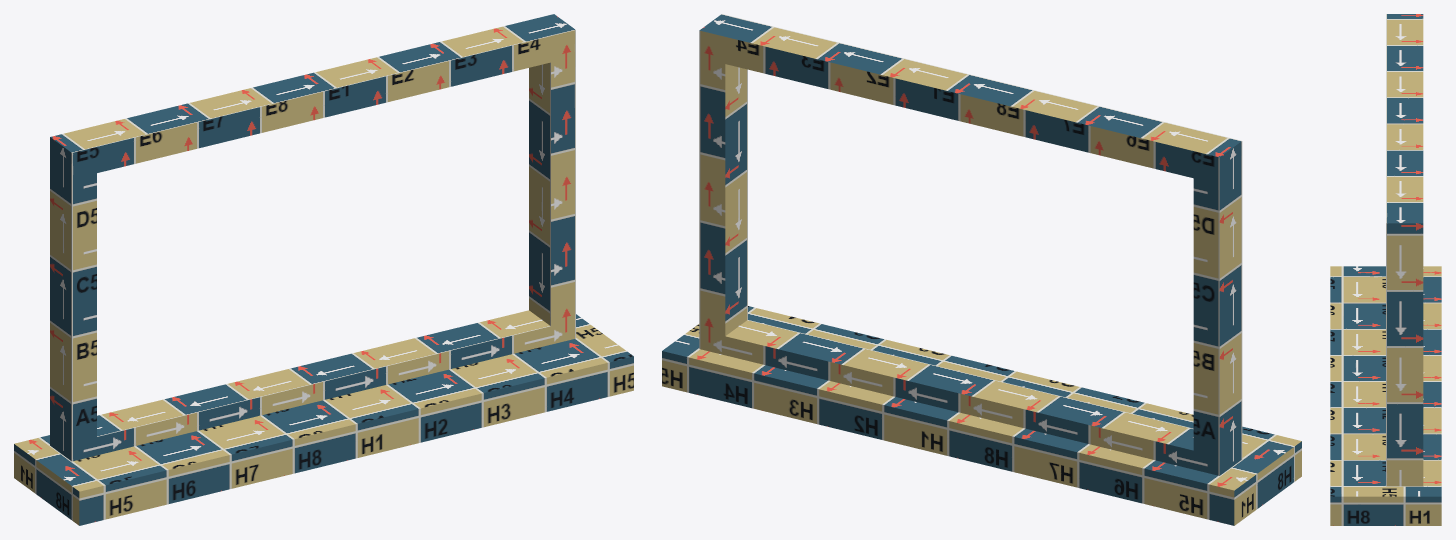
Rendered from WINDOW_FrameAndSill.fbx.
3 renders of one model, left to right at view 1: azimuth 30°, elevation 25°; view 2: azimuth 150°, elevation 25°; view 3: azimuth 270°, elevation 25°, orthographic. The views are drawn at different scales.
Parts seen in each view (by area): view 1: WINDOW_FrameAndSill; view 2: WINDOW_FrameAndSill; view 3: WINDOW_FrameAndSill.
Part boxes in pixels (bbox=[...]): WINDOW_FrameAndSill: bbox=[14, 14, 633, 525]; WINDOW_FrameAndSill: bbox=[662, 14, 1301, 525]; WINDOW_FrameAndSill: bbox=[1330, 14, 1441, 525].
Size of the model in its own units: 220 by 130 by 45.
Materials: 1 (1 with a texture image).
